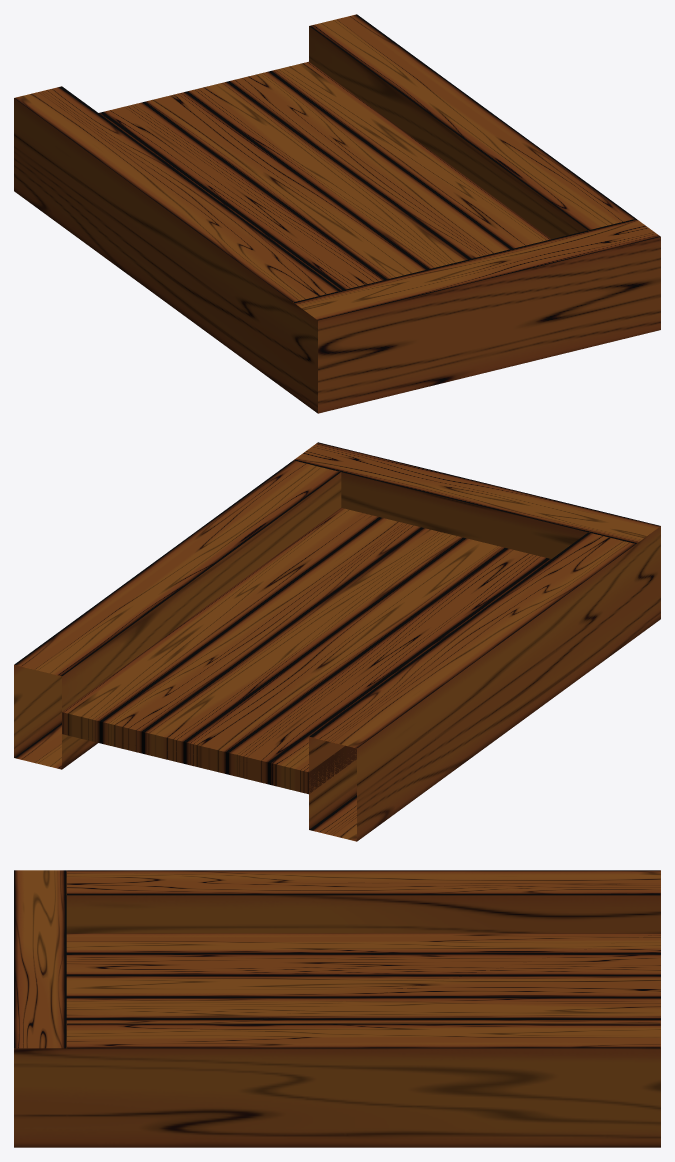
Rendered from MDoor_01.fbx.
The picture shows the model from 3 angles, top to bottom: view 1: azimuth 30°, elevation 25°; view 2: azimuth 150°, elevation 25°; view 3: azimuth 270°, elevation 25°; orthographic projection. The views are drawn at different scales.
Parts seen in each view (by area): view 1: MDoor_01, MDoor_01b; view 2: MDoor_01, MDoor_01b; view 3: MDoor_01, MDoor_01b.
Part boxes in pixels (x1,y1,x2,y2): MDoor_01: [14, 14, 660, 413]; MDoor_01b: [99, 61, 551, 290]; MDoor_01: [14, 442, 660, 841]; MDoor_01b: [62, 508, 551, 794]; MDoor_01: [14, 870, 660, 1147]; MDoor_01b: [66, 933, 660, 1023].
Bounding box in the file's own units: 141 × 36.55 × 216.
